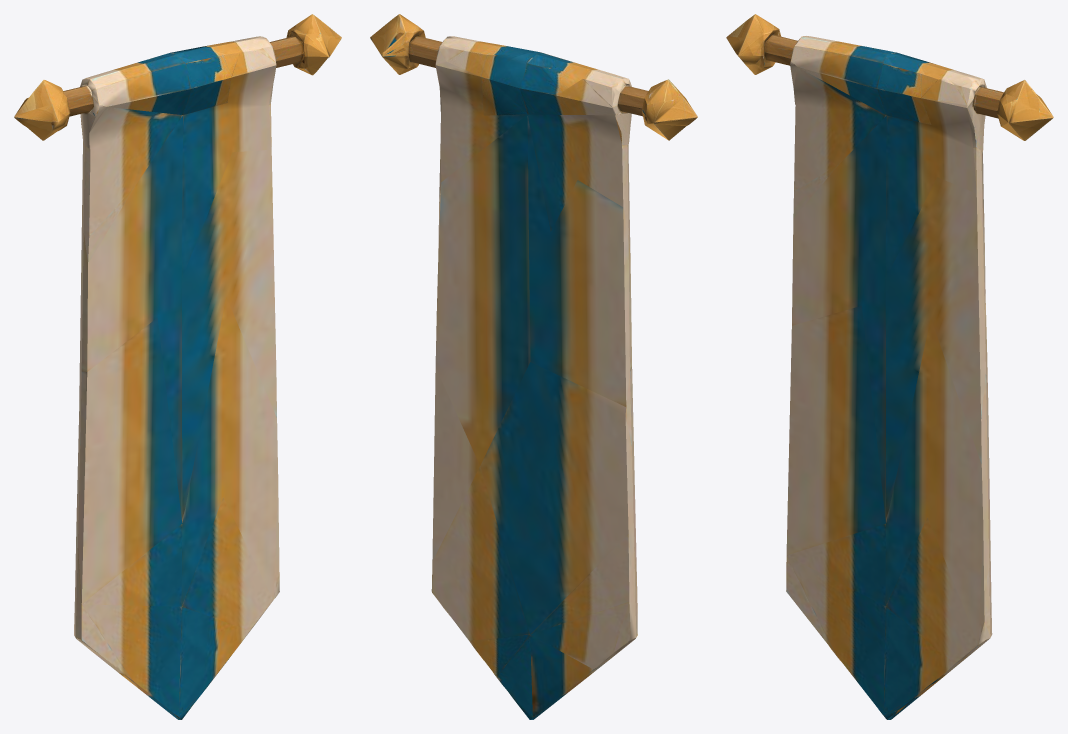
File: palace-banner.glb
The picture shows the model from 3 angles, left to right: view 1: azimuth 30°, elevation 25°; view 2: azimuth 150°, elevation 25°; view 3: azimuth 330°, elevation 25°; orthographic projection.
Size of the model in its own units: 0.968 by 1.9 by 0.1669.
1 material, 1 textured.
